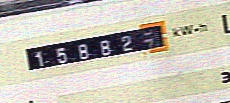1: (32, 50, 45, 69)
2: (119, 34, 132, 53)
5: (53, 47, 67, 65)
7: (141, 37, 154, 52)
8: (76, 43, 89, 61), (98, 39, 111, 57)
screen: (16, 17, 175, 77)
